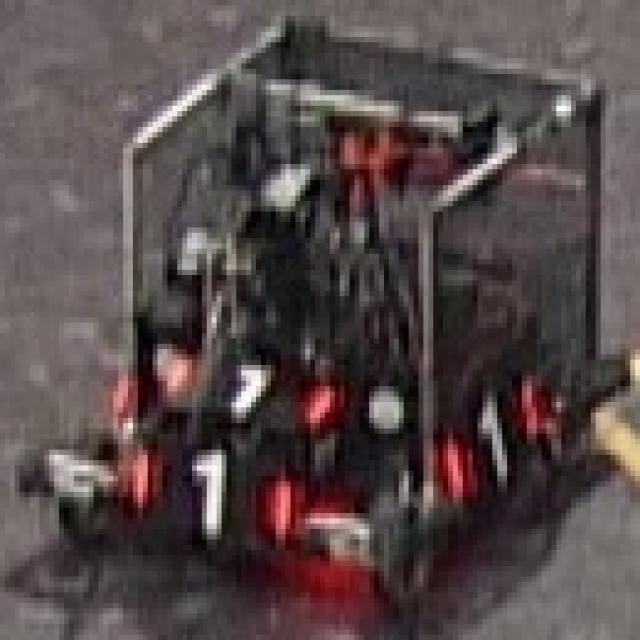R1: (111, 428, 298, 540), (160, 333, 347, 439), (428, 352, 546, 500)
